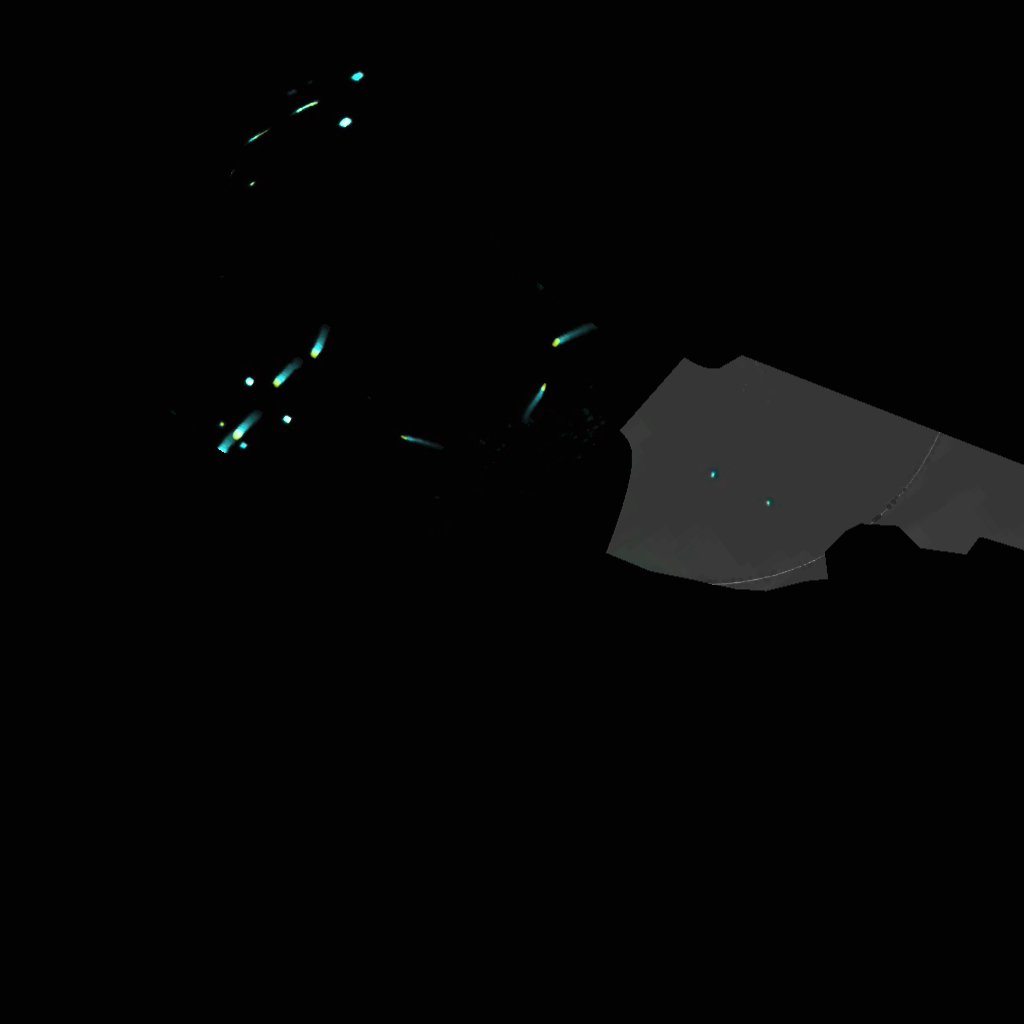B: (400, 430, 445, 453), (308, 328, 330, 360), (214, 432, 244, 454), (530, 380, 546, 416), (550, 329, 582, 346), (233, 419, 256, 437), (272, 368, 292, 387)
